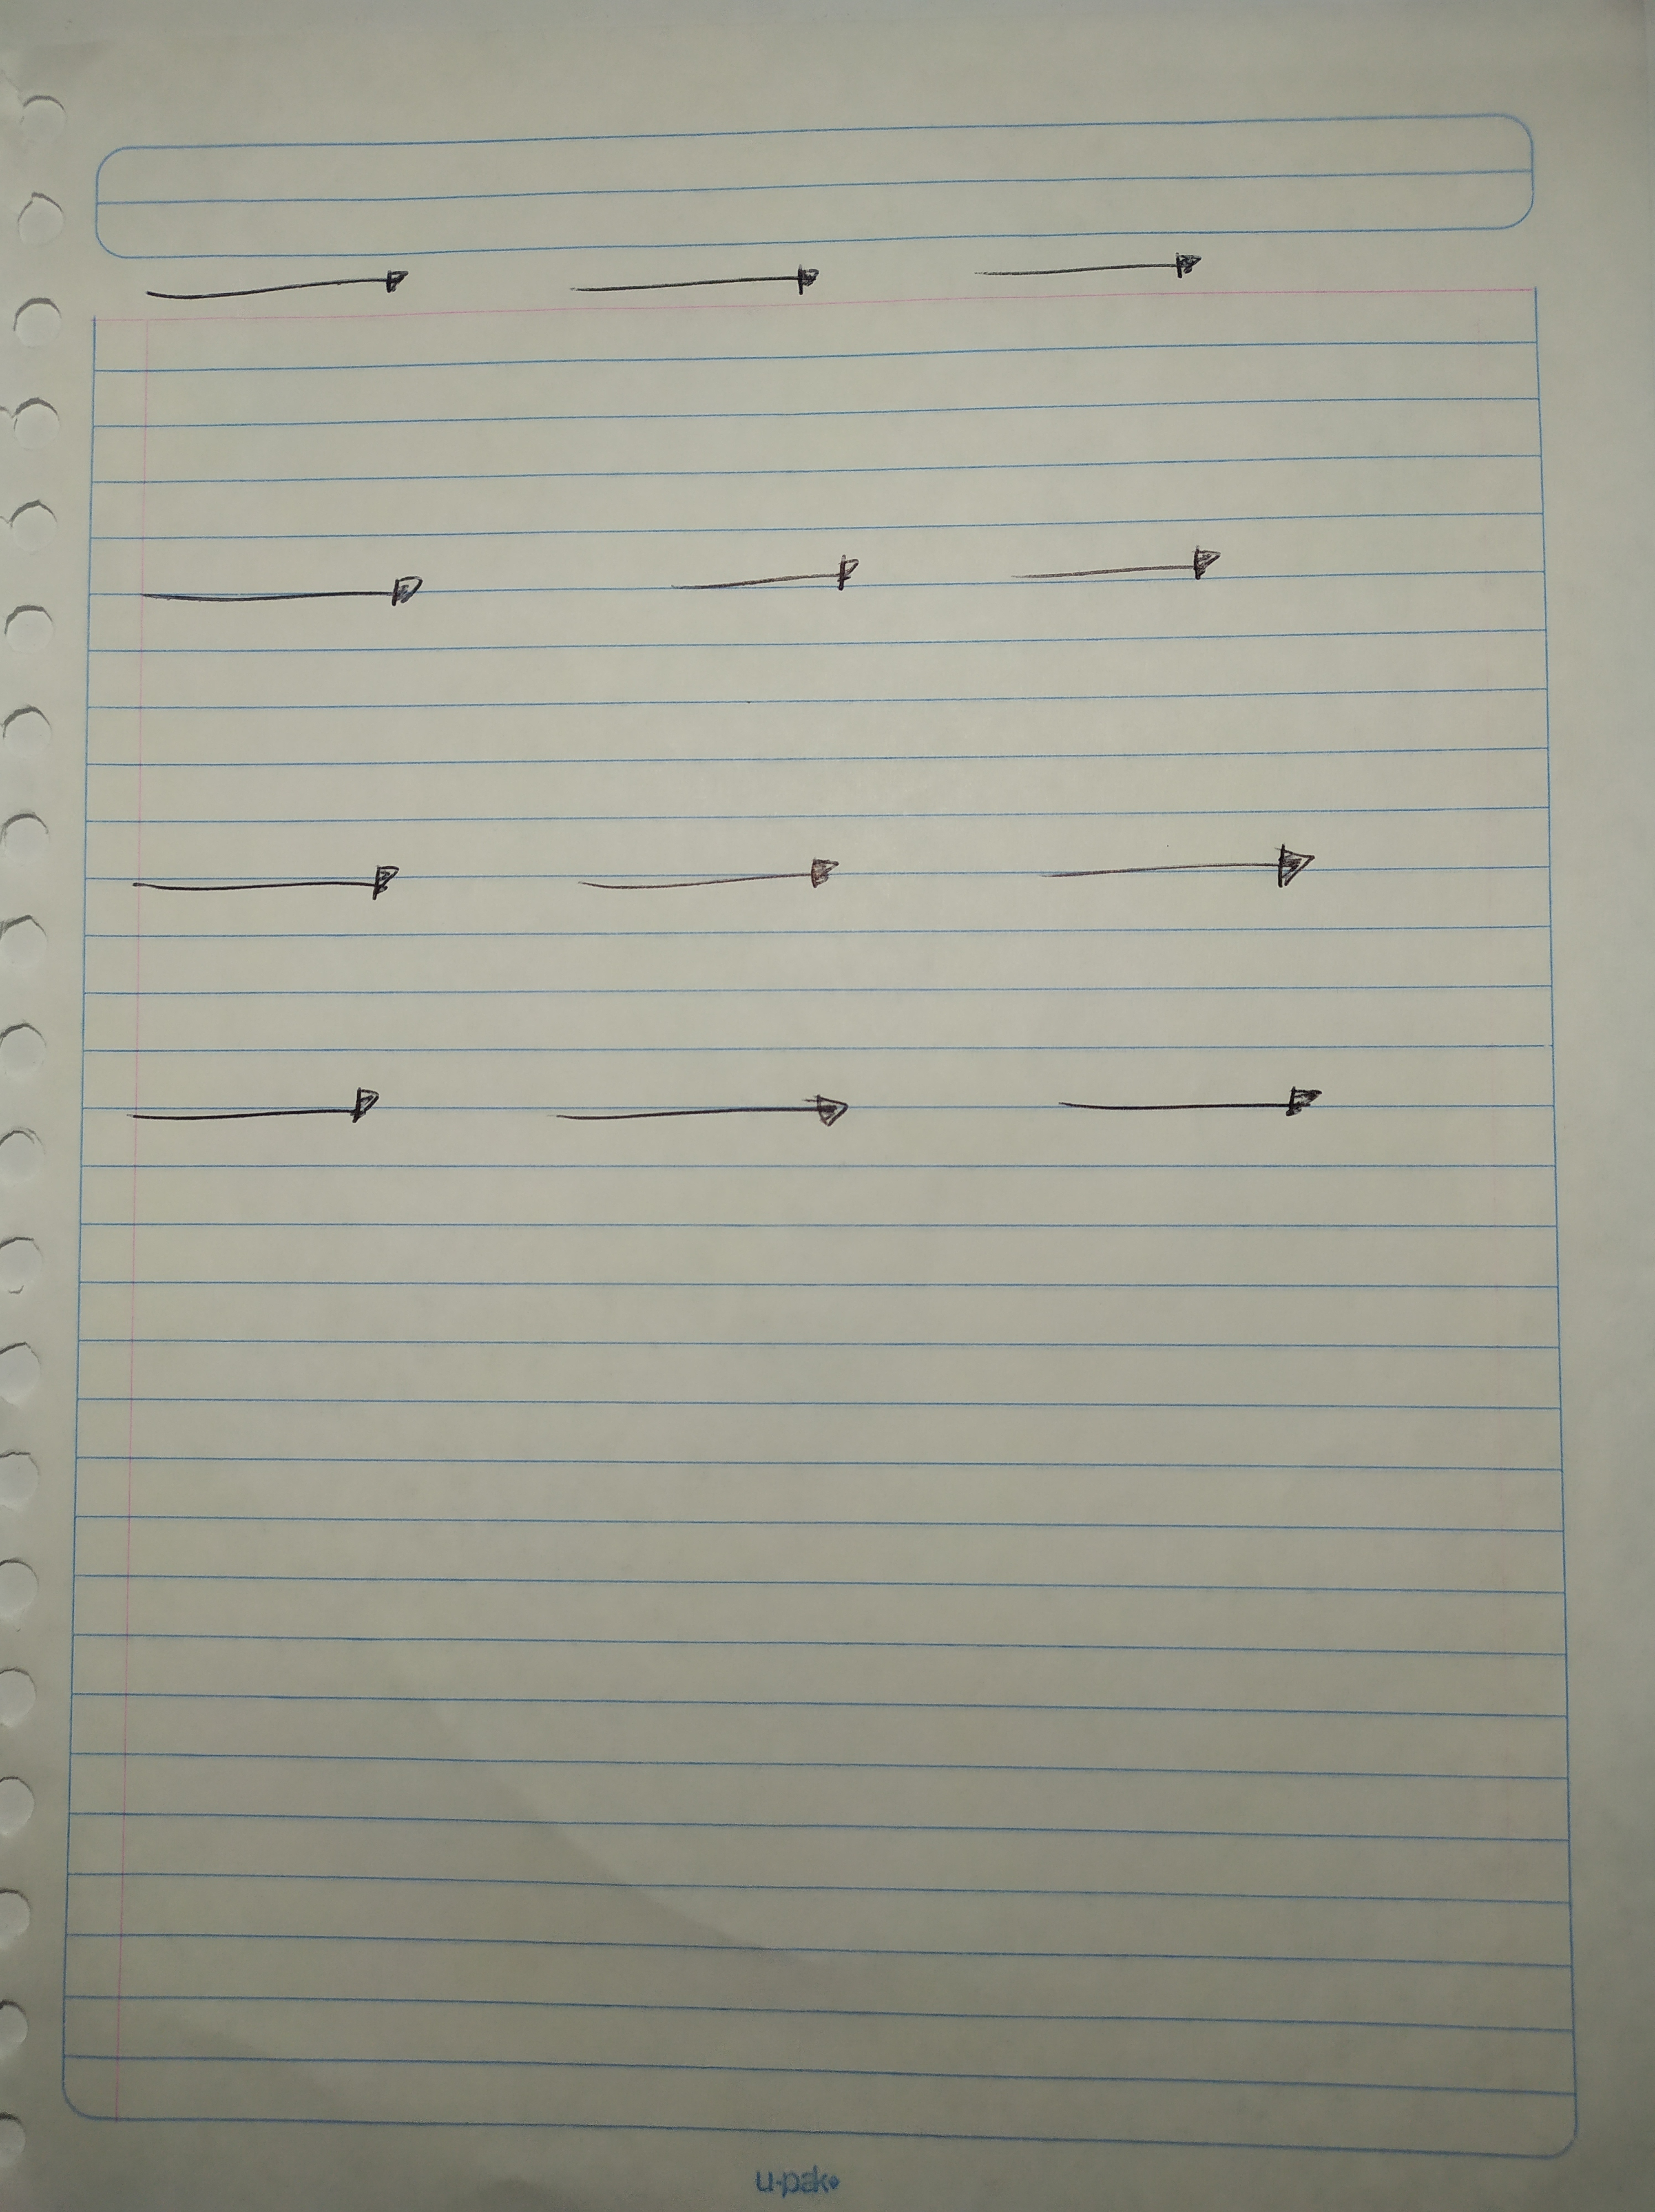arrow_line_right: (104, 542, 494, 638), (511, 1065, 888, 1159), (97, 242, 442, 335), (1031, 1070, 1368, 1166), (610, 520, 897, 629), (1005, 836, 1358, 919), (97, 838, 419, 928), (972, 533, 1279, 615), (111, 1067, 410, 1150), (541, 247, 852, 323), (548, 843, 852, 905), (946, 240, 1208, 301)
